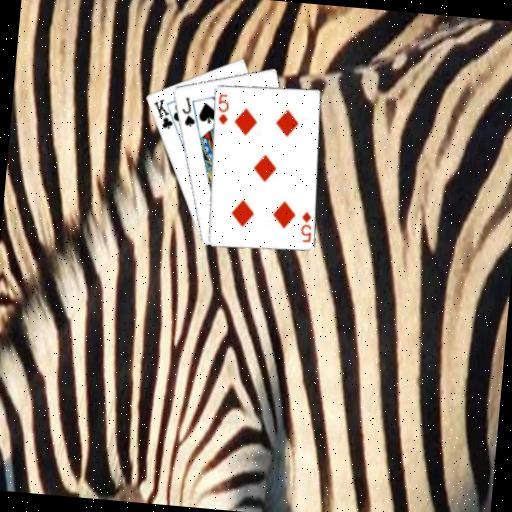5D: (297, 208, 315, 244), (214, 91, 232, 126)
JS: (178, 94, 199, 129)
KC: (148, 95, 181, 131)
